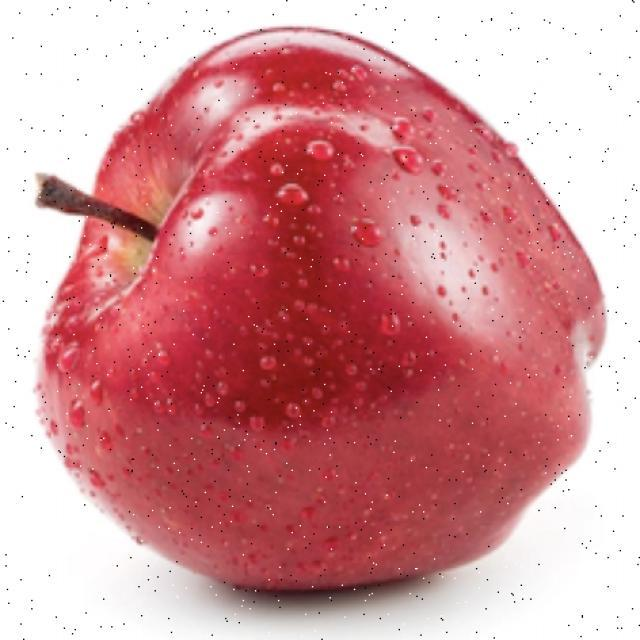Fresh Apple: (33, 43, 607, 600)
